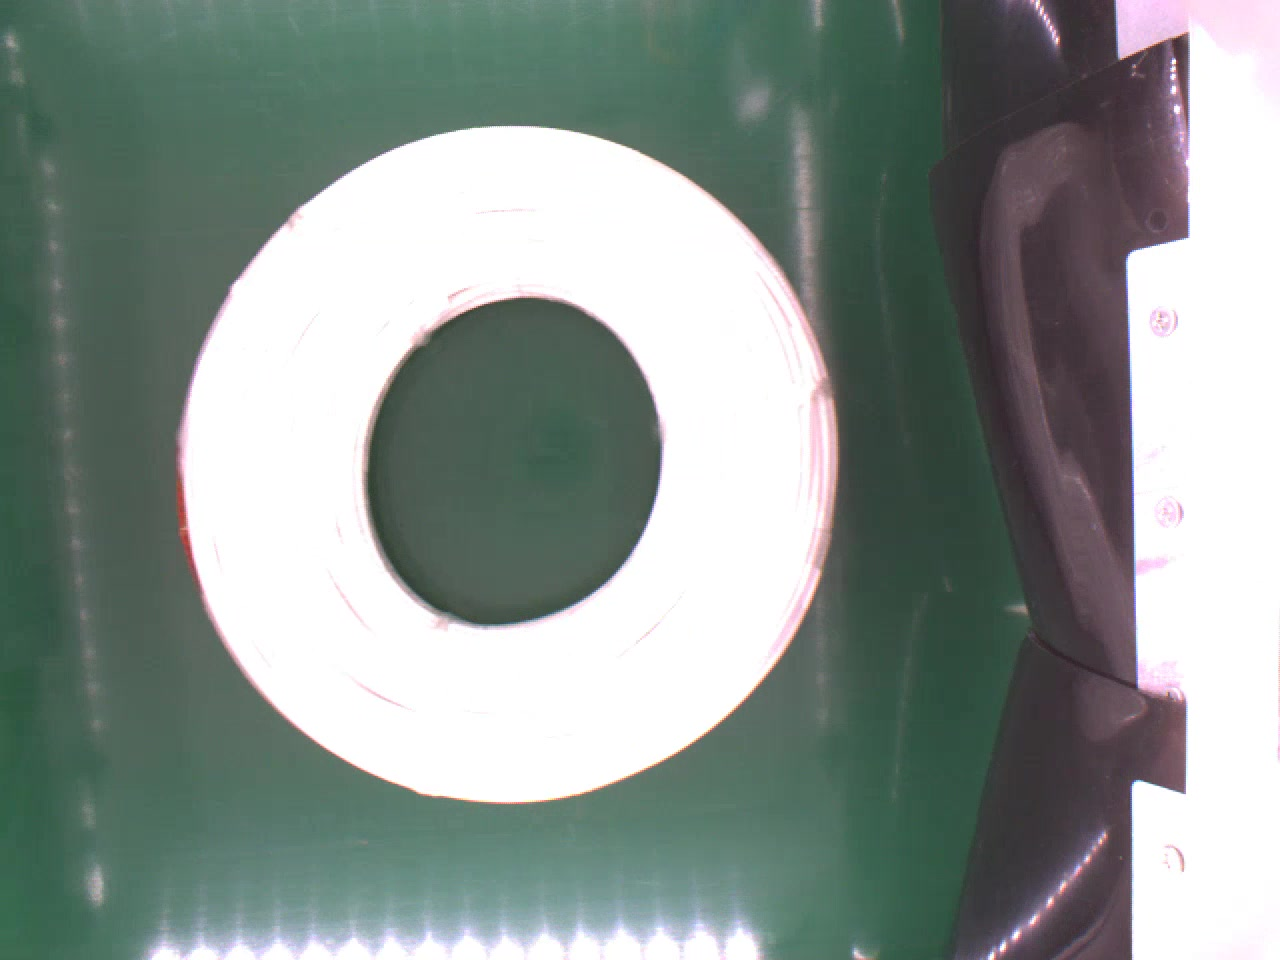white: (175, 123, 841, 808)
